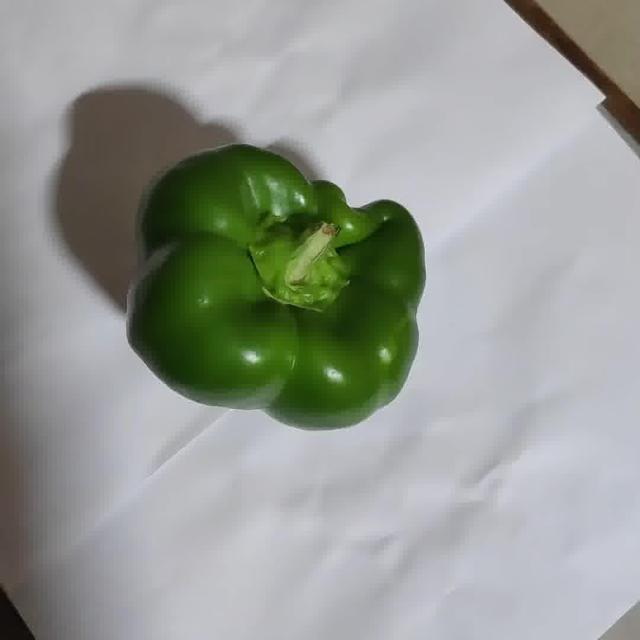Bell Pepper: (127, 142, 425, 430)
